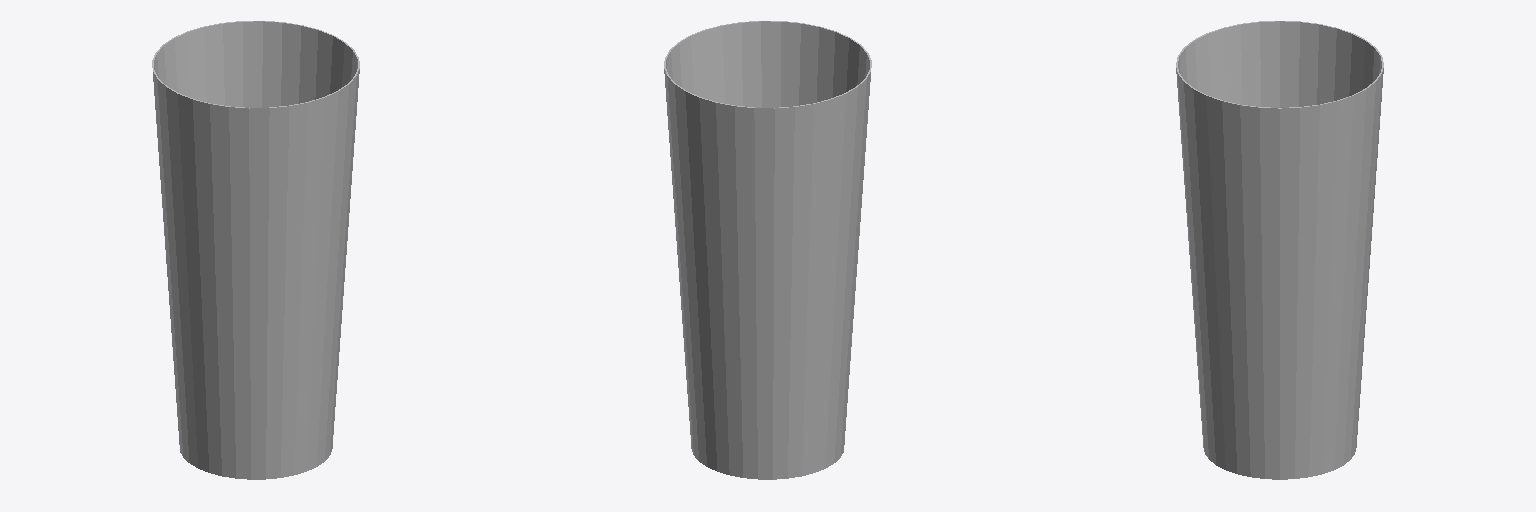
File: glass.obj
3 views of the same model, side by side, from view 1: azimuth 30°, elevation 25°; view 2: azimuth 150°, elevation 25°; view 3: azimuth 270°, elevation 25° (orthographic).
Parts seen in each view (by area): view 1: Cylinder_Cylinder.003; view 2: Cylinder_Cylinder.003; view 3: Cylinder_Cylinder.003.
Boxes of the visible parts, x1,y1,x2,y2 form: Cylinder_Cylinder.003: [152, 21, 359, 479]; Cylinder_Cylinder.003: [664, 21, 871, 479]; Cylinder_Cylinder.003: [1176, 21, 1383, 479].
Bounding box in the file's own units: 2.13 × 4.31 × 2.13.